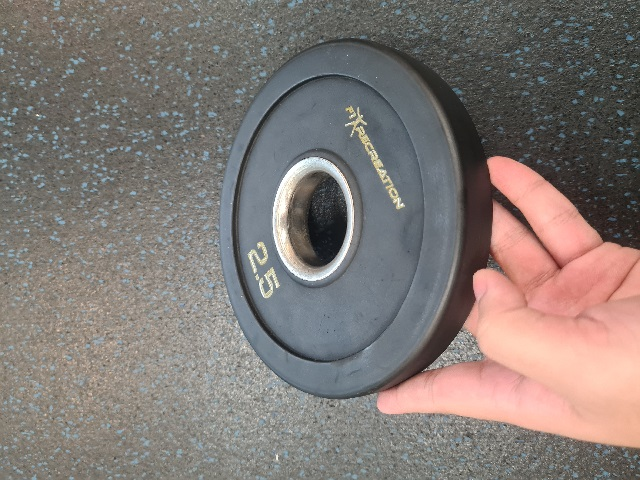weights: (217, 38, 492, 403)
